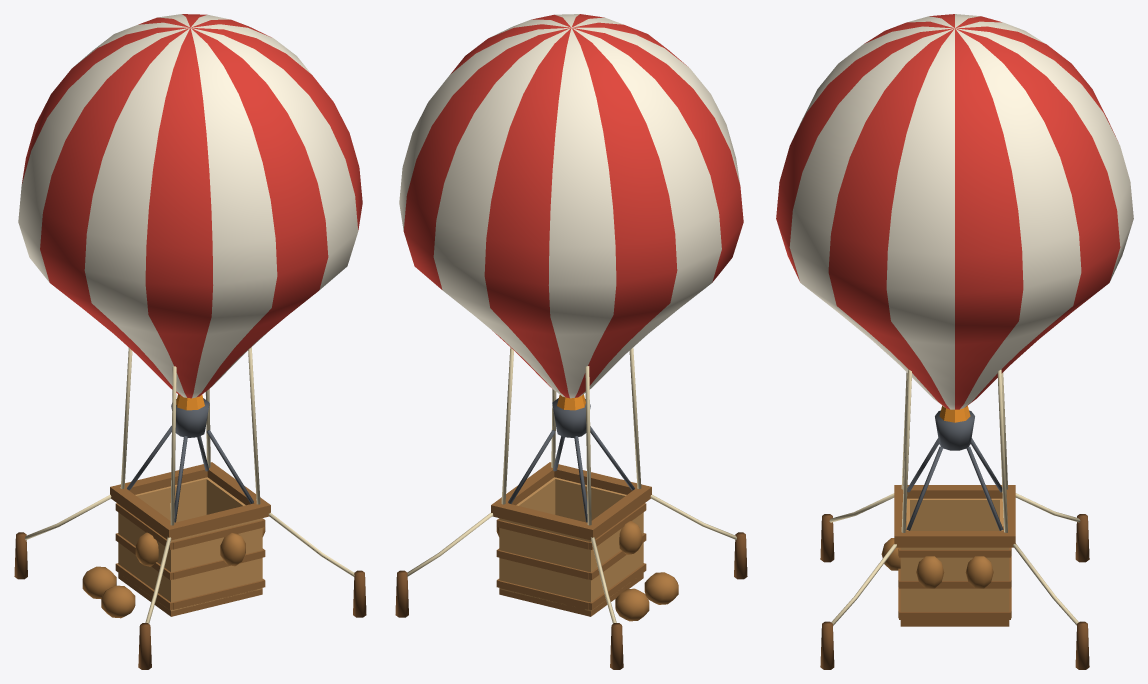
The model's file is montgolfiere.glb.
3 renders of one model, left to right at view 1: azimuth 30°, elevation 25°; view 2: azimuth 150°, elevation 25°; view 3: azimuth 270°, elevation 25°, orthographic. The views are drawn at different scales.
Parts seen in each view (by area): view 1: ballon, nacelle.003, nacelle, nacelle.001, bord.003, bord, nacelle.002, bord.001, bord.002, nacelle_fond, bruleur, sac.004 (+12 smaller); view 2: ballon, nacelle.001, nacelle, nacelle.003, bord.001, bord, nacelle.002, bord.003, bord.002, bruleur, nacelle_fond, sac.004 (+11 smaller); view 3: ballon, nacelle.002, nacelle, bord.002, bord, bruleur, tresse.002, tresse.010, corde.002, nacelle_fond, corde.003, sac (+6 smaller).
Part boxes in pixels (x1,y1,x2,y2): ballon: [18, 14, 362, 398]; nacelle.003: [179, 520, 254, 609]; nacelle: [118, 512, 178, 611]; nacelle.001: [135, 478, 206, 522]; bord.003: [174, 503, 260, 538]; bord: [110, 484, 179, 540]; nacelle.002: [205, 477, 262, 590]; bord.001: [124, 464, 207, 494]; bord.002: [202, 462, 270, 518]; nacelle_fond: [118, 573, 262, 616]; bruleur: [171, 398, 209, 437]; sac.004: [101, 585, 135, 618]; ballon: [399, 14, 743, 398]; nacelle.001: [507, 520, 582, 606]; nacelle: [583, 512, 643, 611]; nacelle.003: [555, 478, 626, 522]; bord.001: [501, 503, 587, 538]; bord: [582, 484, 651, 540]; nacelle.002: [499, 477, 556, 590]; bord.003: [554, 464, 637, 494]; bord.002: [491, 462, 559, 518]; bruleur: [552, 398, 590, 437]; nacelle_fond: [499, 573, 643, 616]; sac.004: [644, 572, 678, 604]; ballon: [776, 14, 1133, 409]; nacelle.002: [900, 547, 1009, 611]; nacelle: [907, 498, 1002, 530]; bord.002: [894, 531, 1015, 547]; bord: [894, 485, 1015, 498]; bruleur: [935, 410, 974, 450]; tresse.002: [899, 611, 1010, 619]; tresse.010: [899, 549, 1010, 557]; corde.002: [997, 369, 1007, 532]; nacelle_fond: [900, 620, 1009, 626]; corde.003: [901, 369, 911, 532]; sac: [916, 556, 944, 588].
Size of the model in its own units: 2.3 by 4.15 by 2.3.
